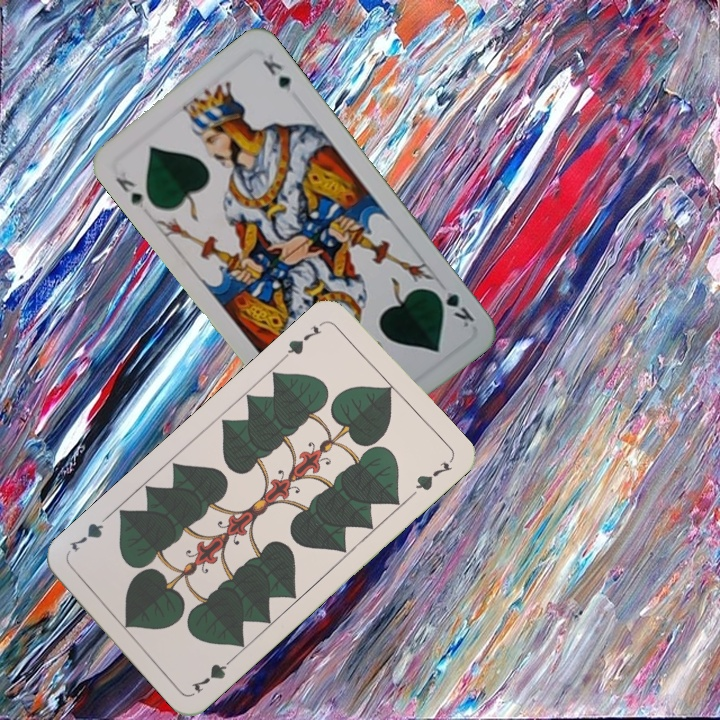G7: (187, 651, 239, 696), (280, 321, 325, 362)
GK: (429, 285, 477, 332), (111, 173, 150, 211)
